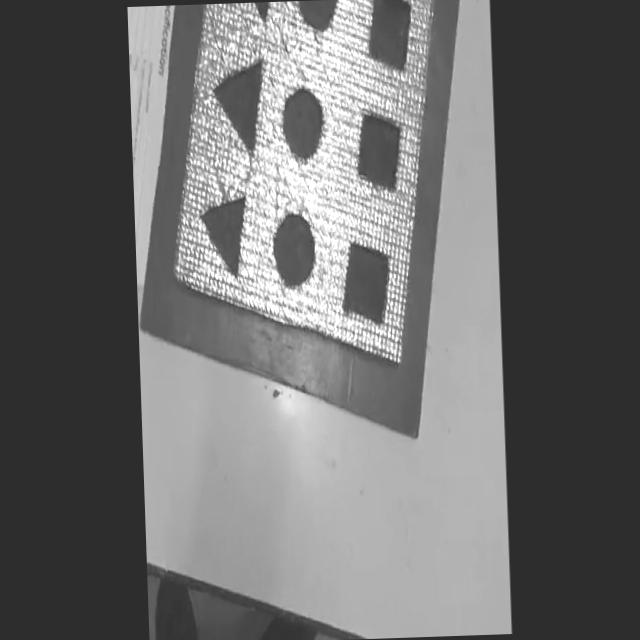mtcircle: (279, 87, 325, 163), (270, 212, 316, 288), (297, 0, 335, 31)
mtcube: (340, 241, 392, 329), (354, 110, 402, 194), (365, 0, 413, 75)
mttriangle: (212, 58, 267, 158), (199, 195, 249, 280)
wb: (174, 0, 437, 369)
